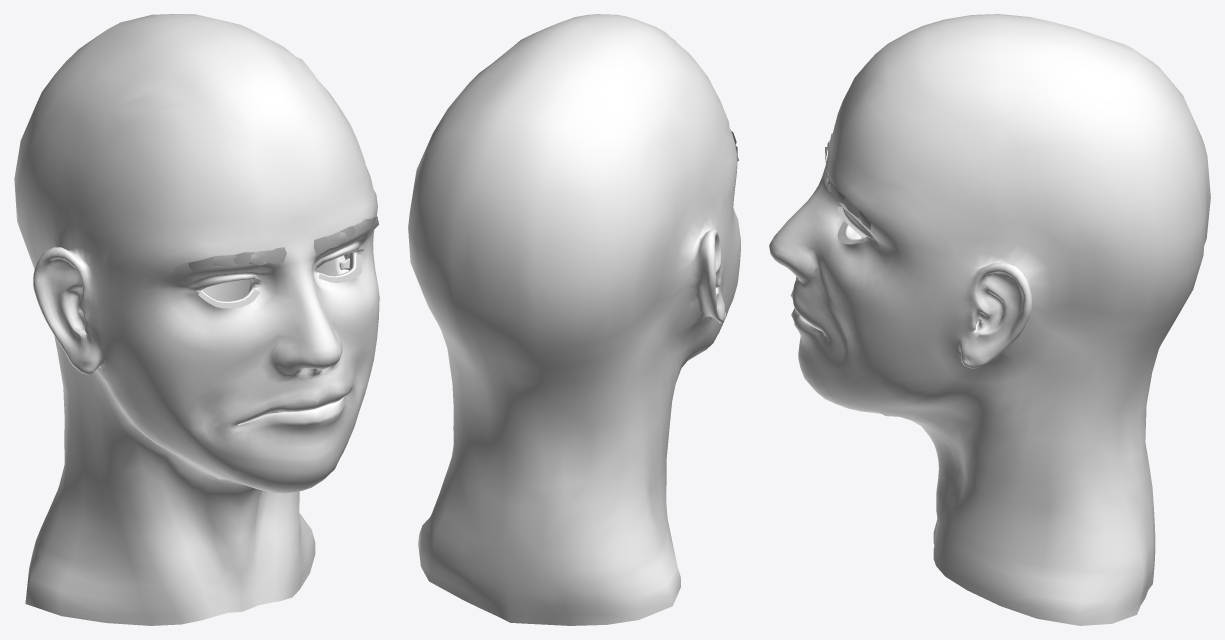
File: mouthStretchRight.obj
3 renders of one model, left to right at view 1: azimuth 30°, elevation 25°; view 2: azimuth 150°, elevation 25°; view 3: azimuth 270°, elevation 25°, orthographic. The views are drawn at different scales.
Parts seen in each view (by area): view 1: FaceMesh_Plane.003; view 2: FaceMesh_Plane.003; view 3: FaceMesh_Plane.003.
Part boxes in pixels (x1,y1,x2,y2): FaceMesh_Plane.003: (14, 14, 379, 625); FaceMesh_Plane.003: (408, 14, 740, 625); FaceMesh_Plane.003: (769, 14, 1210, 625).
Bounding box in the file's own units: 1.54 × 2.71 × 1.94.
5 materials, 1 textured.
